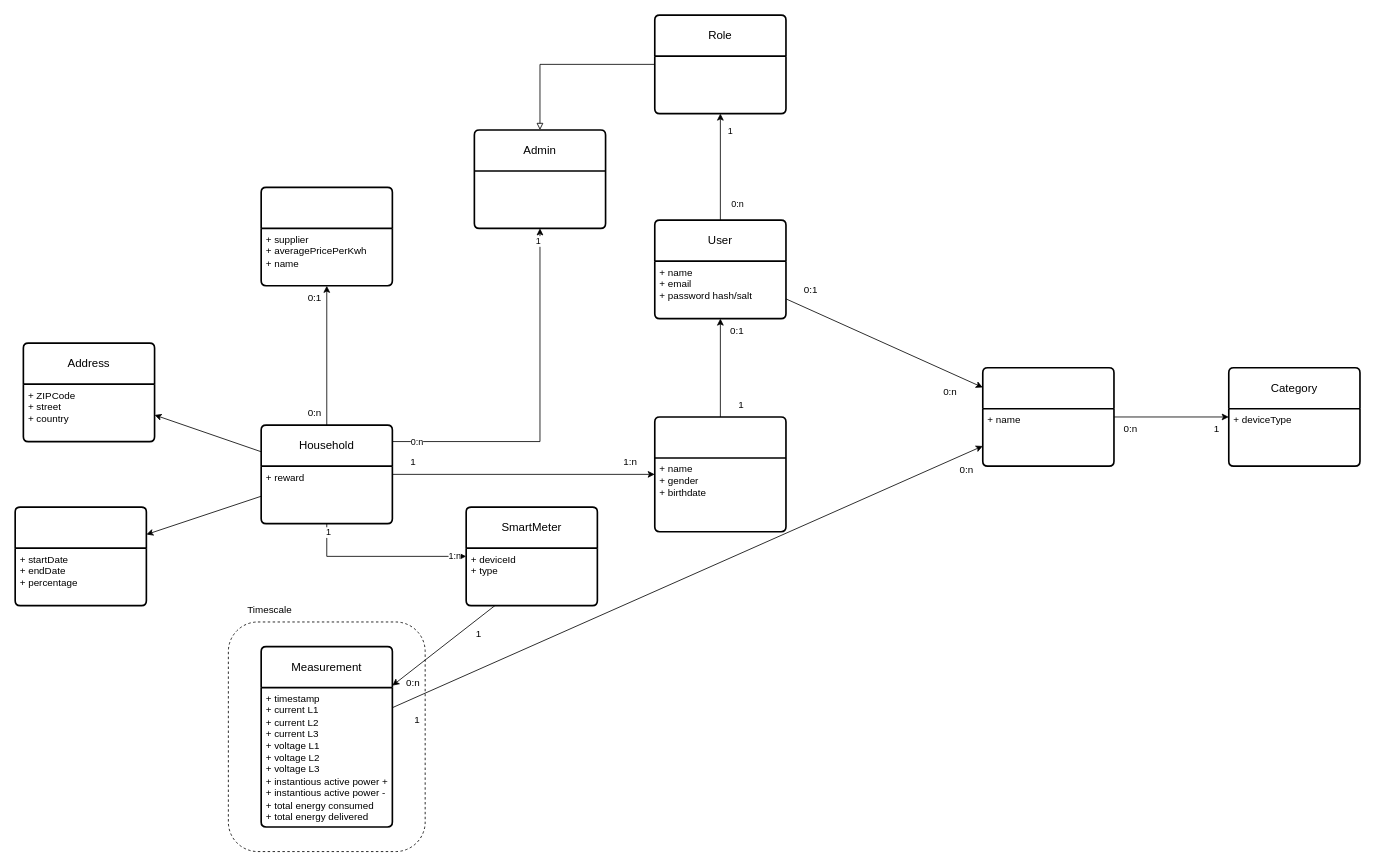
The diagram is 1374 pixels wide and 866 high, and some of its shapes have lost their labels. The shapes that lost their labels are listed below. From the top down, each one's box as (x1, y1, x2, y2) in pixels, then its label:
(260, 186, 393, 286): ElectricityPricingPlan
(982, 367, 1114, 467): Label
(654, 416, 786, 532): Member
(14, 506, 147, 606): EnergySavingTarget
